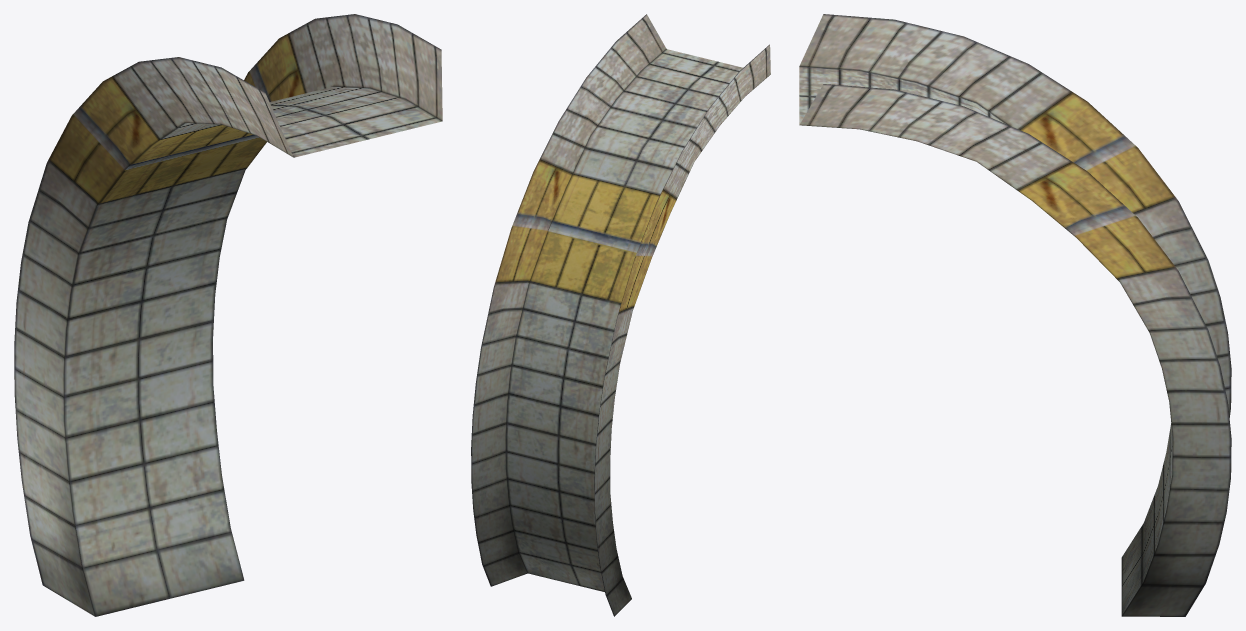
Rendered from 00_02_station_wall_column.dae.
3 views of the same model, side by side, from view 1: azimuth 30°, elevation 25°; view 2: azimuth 150°, elevation 25°; view 3: azimuth 270°, elevation 25° (orthographic). The views are drawn at different scales.
Visible parts, largest first — view 1: Object02; view 2: Object02; view 3: Object02.
Part boxes in pixels (box(x1,y1,x2,y2)): Object02: box(14, 14, 442, 616); Object02: box(471, 14, 770, 616); Object02: box(799, 14, 1231, 616).
Bounding box in the file's own units: 200 × 719 × 524.
